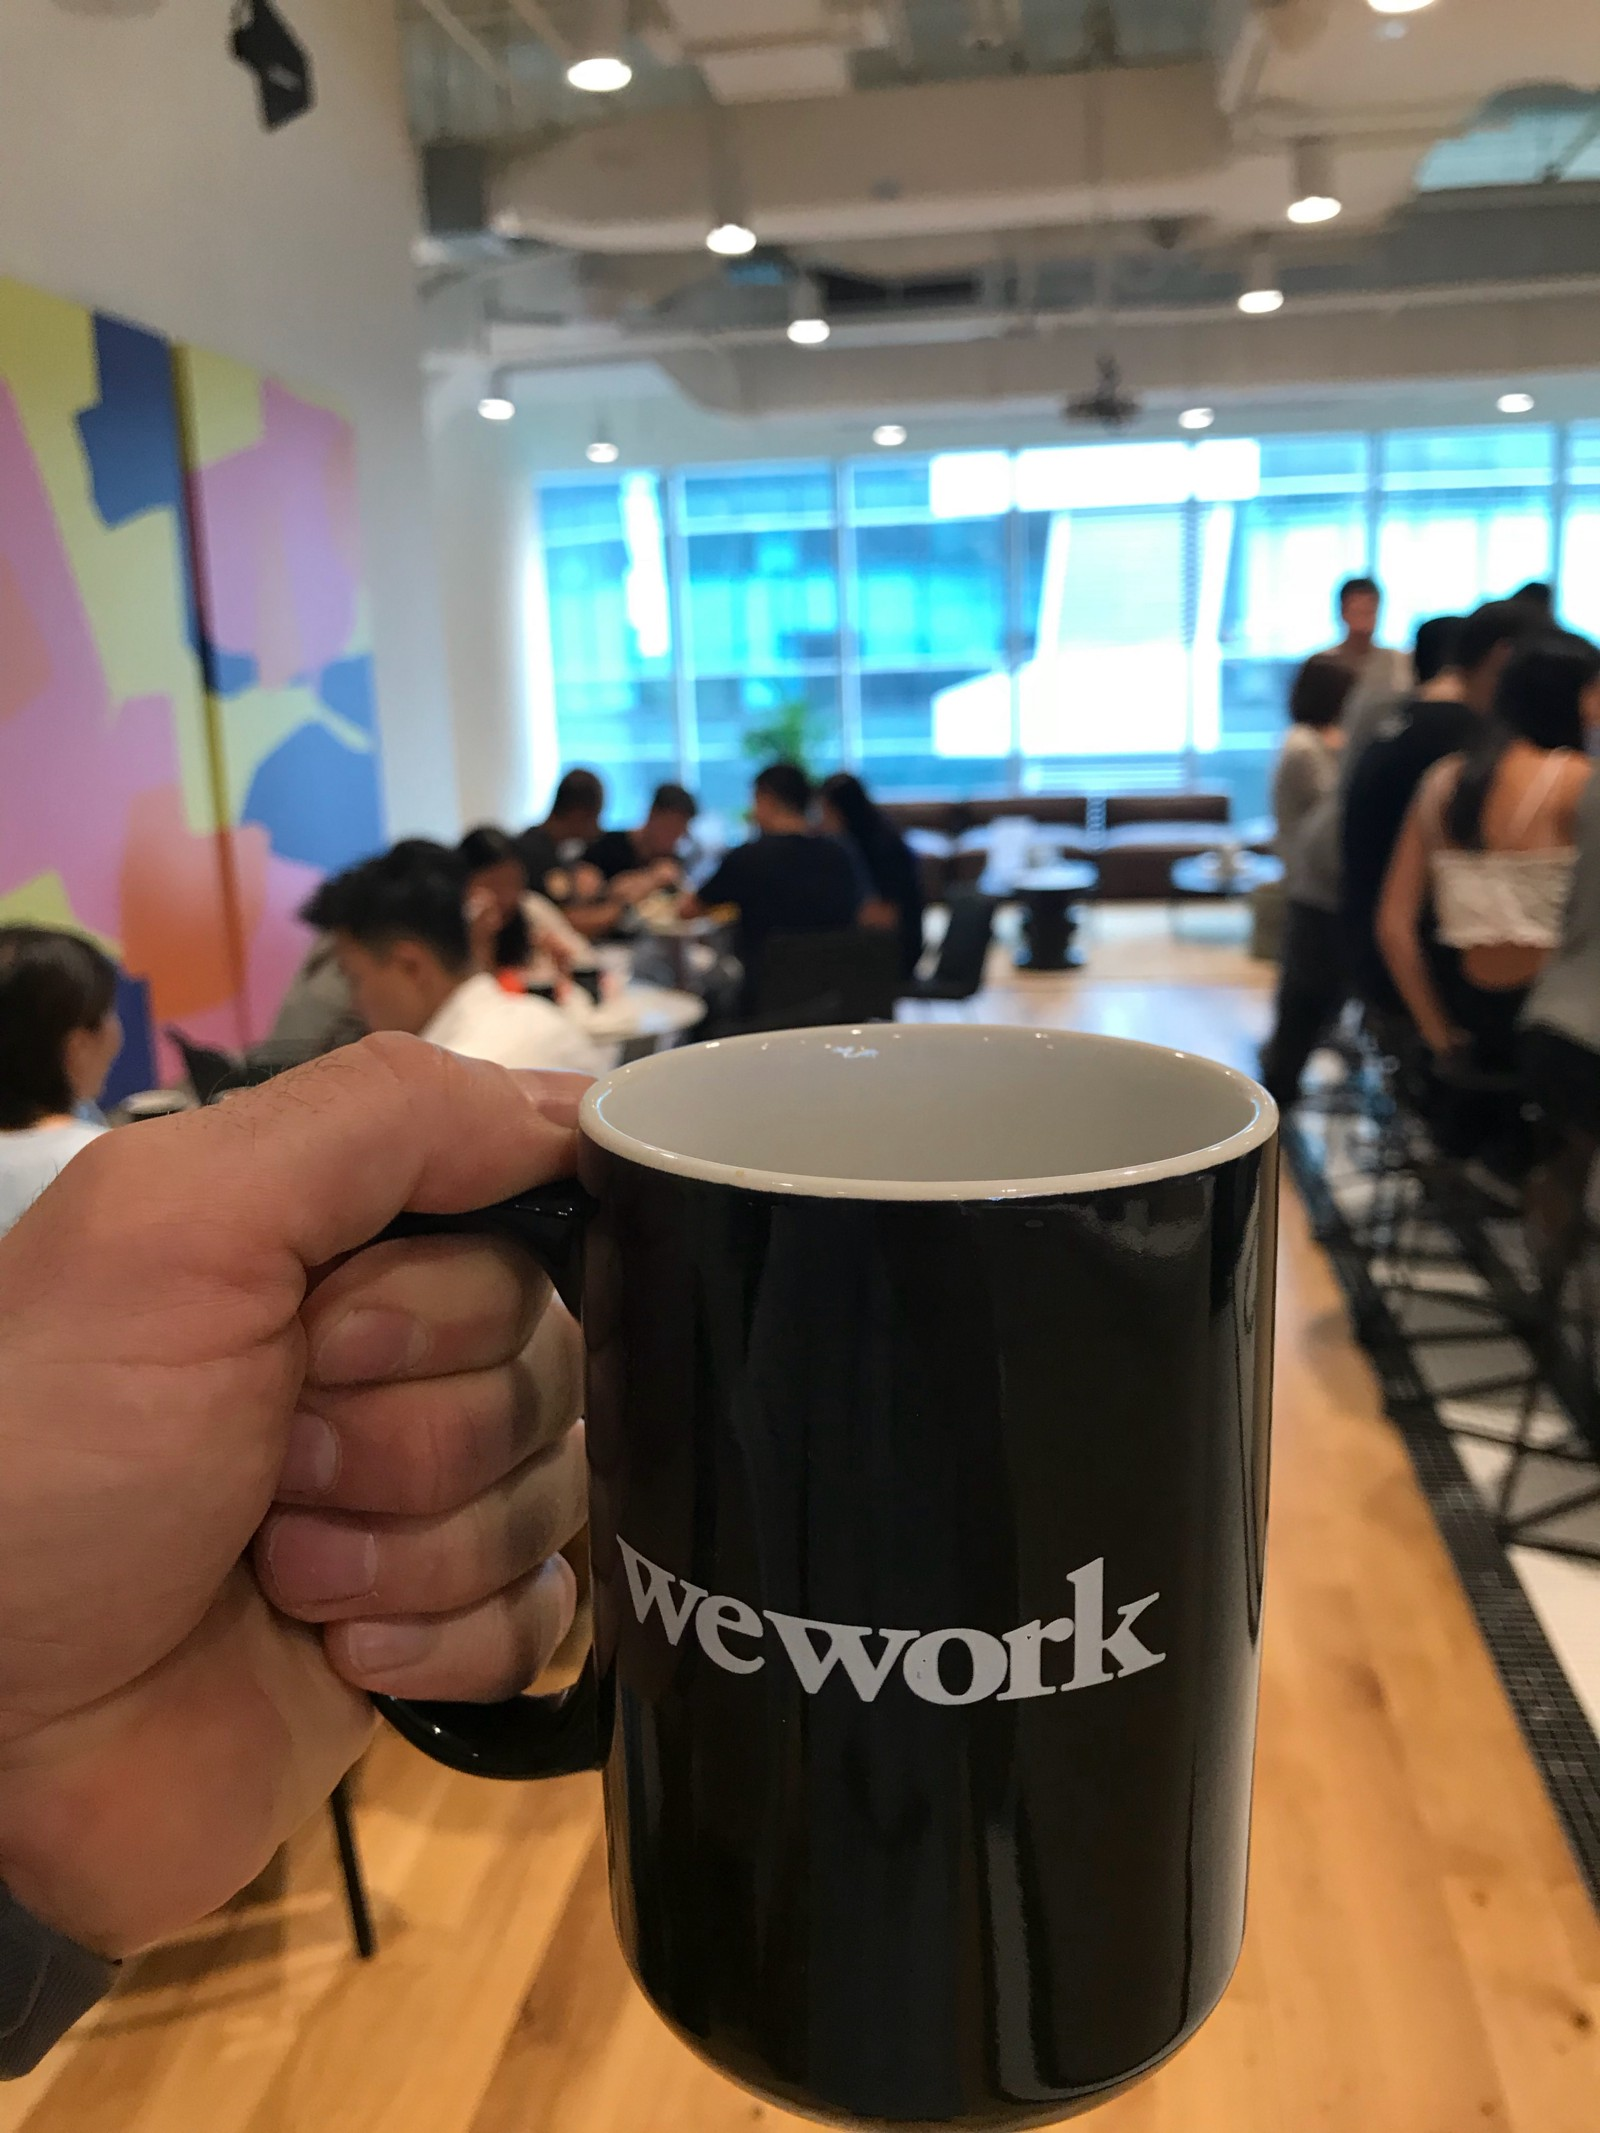wework: (610, 1530, 1175, 1714)
